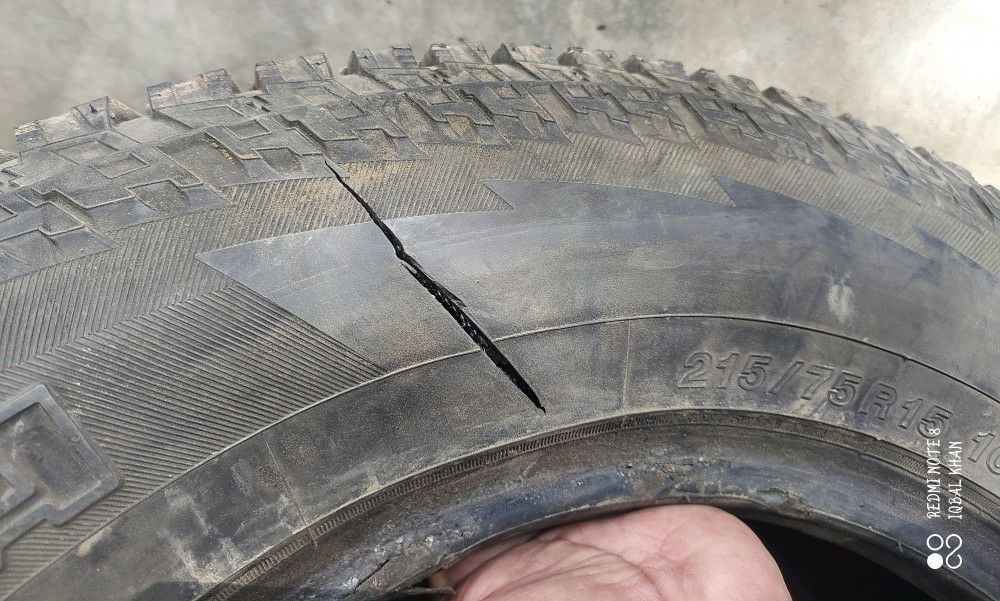cut: (323, 157, 551, 417)
